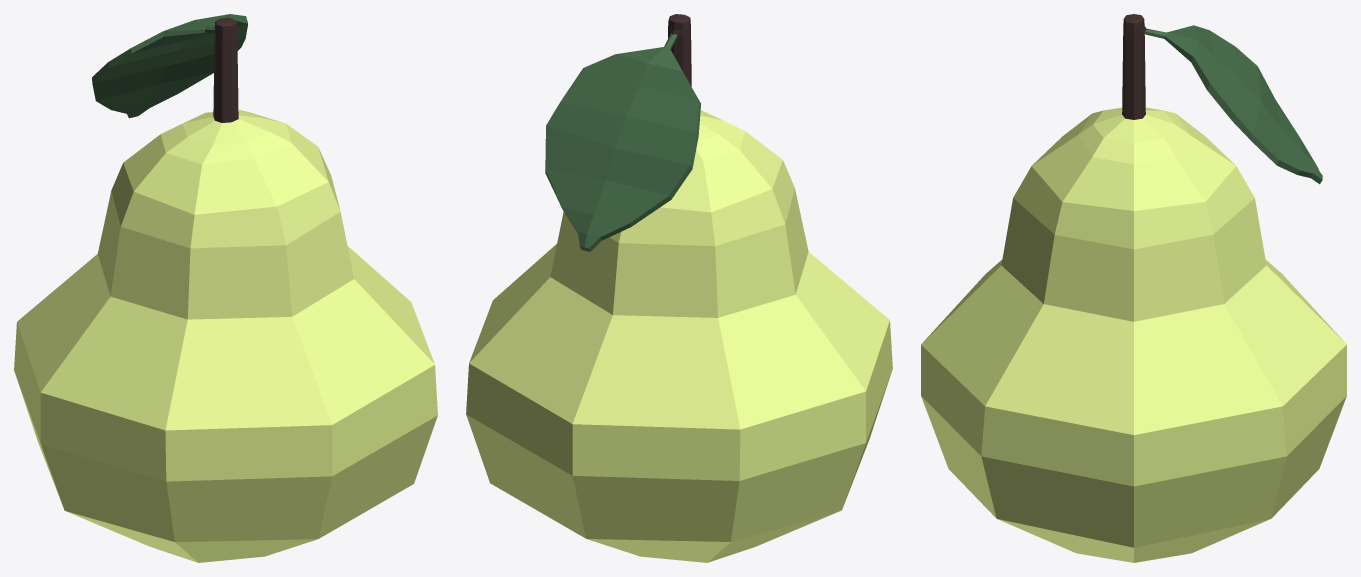
Rendered from Pera.fbx.
3 renders of one model, left to right at view 1: azimuth 30°, elevation 25°; view 2: azimuth 150°, elevation 25°; view 3: azimuth 270°, elevation 25°, orthographic.
Visible parts, largest first — view 1: pasted__pCube1; view 2: pasted__pCube1; view 3: pasted__pCube1.
Part boxes in pixels (x1=…): pasted__pCube1: x1=14, y1=14, x2=437, y2=562; pasted__pCube1: x1=466, y1=14, x2=892, y2=562; pasted__pCube1: x1=921, y1=14, x2=1346, y2=562.
Size of the model in its own units: 1 by 1.33 by 0.9949.
